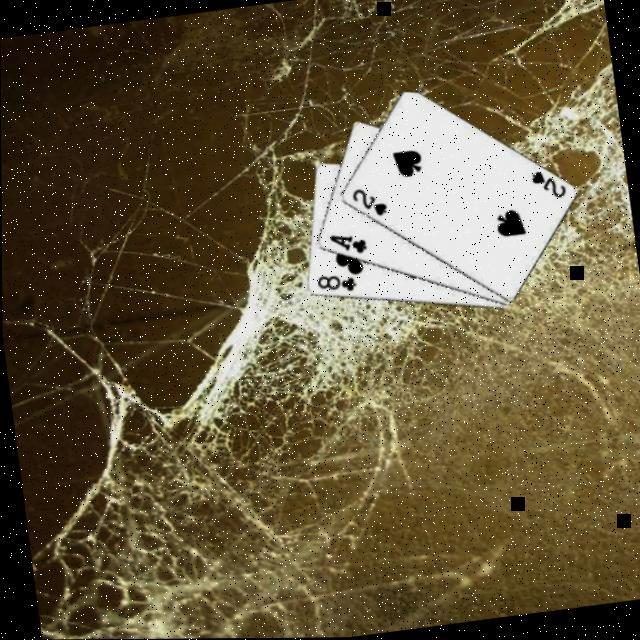2S: (347, 184, 389, 222), (525, 166, 567, 204)
8C: (311, 270, 358, 299)
AC: (325, 229, 368, 261)
